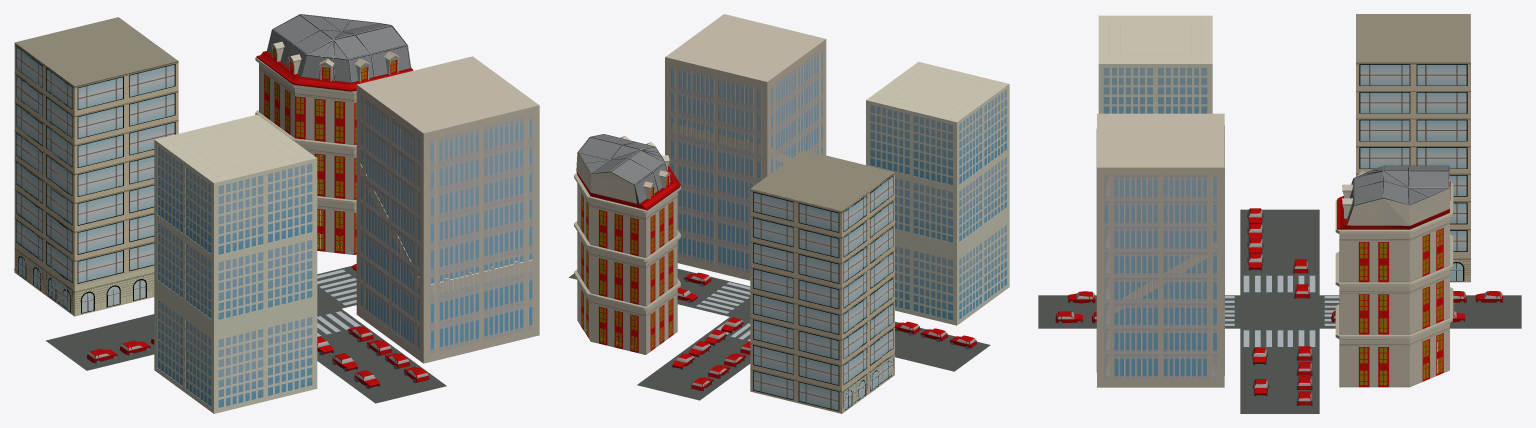
The picture shows the model from 3 angles, left to right: view 1: azimuth 30°, elevation 25°; view 2: azimuth 150°, elevation 25°; view 3: azimuth 270°, elevation 25°; orthographic projection. The views are drawn at different scales.
Visible parts, largest first — view 1: frenchRoofBig.001, archeMid.006, archeMid.007, road.004; view 2: frenchRoofBig.001, archeMid.006, road.004, archeMid.007; view 3: frenchRoofBig.001, road.004, archeMid.006, archeMid.007.
Boxes of the visible parts, x1,y1,x2,y2 form: frenchRoofBig.001: (14,14,539,408); archeMid.006: (14,43,539,412); archeMid.007: (87,164,539,413); road.004: (46,265,446,403); frenchRoofBig.001: (574,14,1009,412); archeMid.006: (671,53,1009,413); road.004: (569,269,990,400); archeMid.007: (666,123,1009,408); frenchRoofBig.001: (1096,14,1470,387); road.004: (1038,209,1521,413); archeMid.006: (1096,14,1470,377); archeMid.007: (1096,239,1224,377).
Size of the model in its own units: 1 by 0.5035 by 1.
